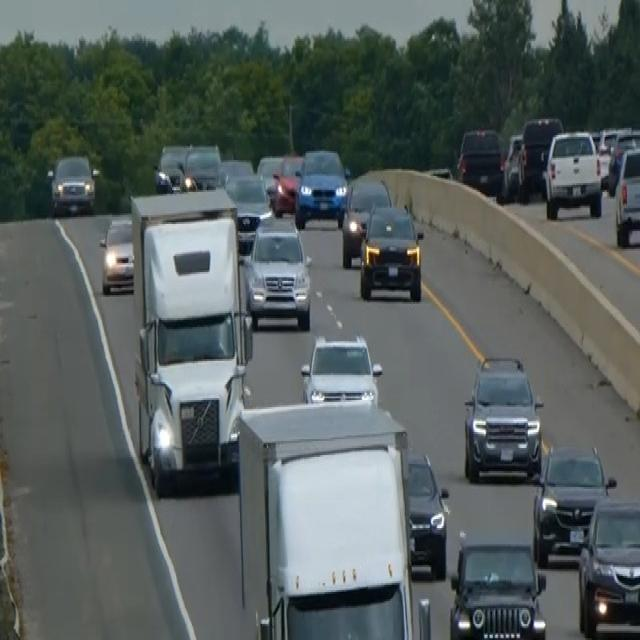car: (462, 352, 543, 484), (532, 439, 616, 565), (448, 535, 547, 638), (576, 494, 639, 638), (243, 215, 312, 327), (358, 201, 424, 302), (299, 331, 383, 407), (404, 450, 449, 580), (543, 127, 602, 220), (341, 174, 391, 267), (294, 146, 348, 228), (516, 114, 563, 199), (456, 124, 503, 196), (98, 213, 135, 295), (49, 151, 96, 215), (613, 144, 639, 247), (225, 170, 272, 220), (607, 128, 639, 196), (271, 153, 304, 215), (182, 140, 221, 190), (153, 140, 188, 192), (502, 132, 524, 198), (217, 154, 254, 187), (256, 153, 282, 199)
lorry: (128, 185, 253, 492)
